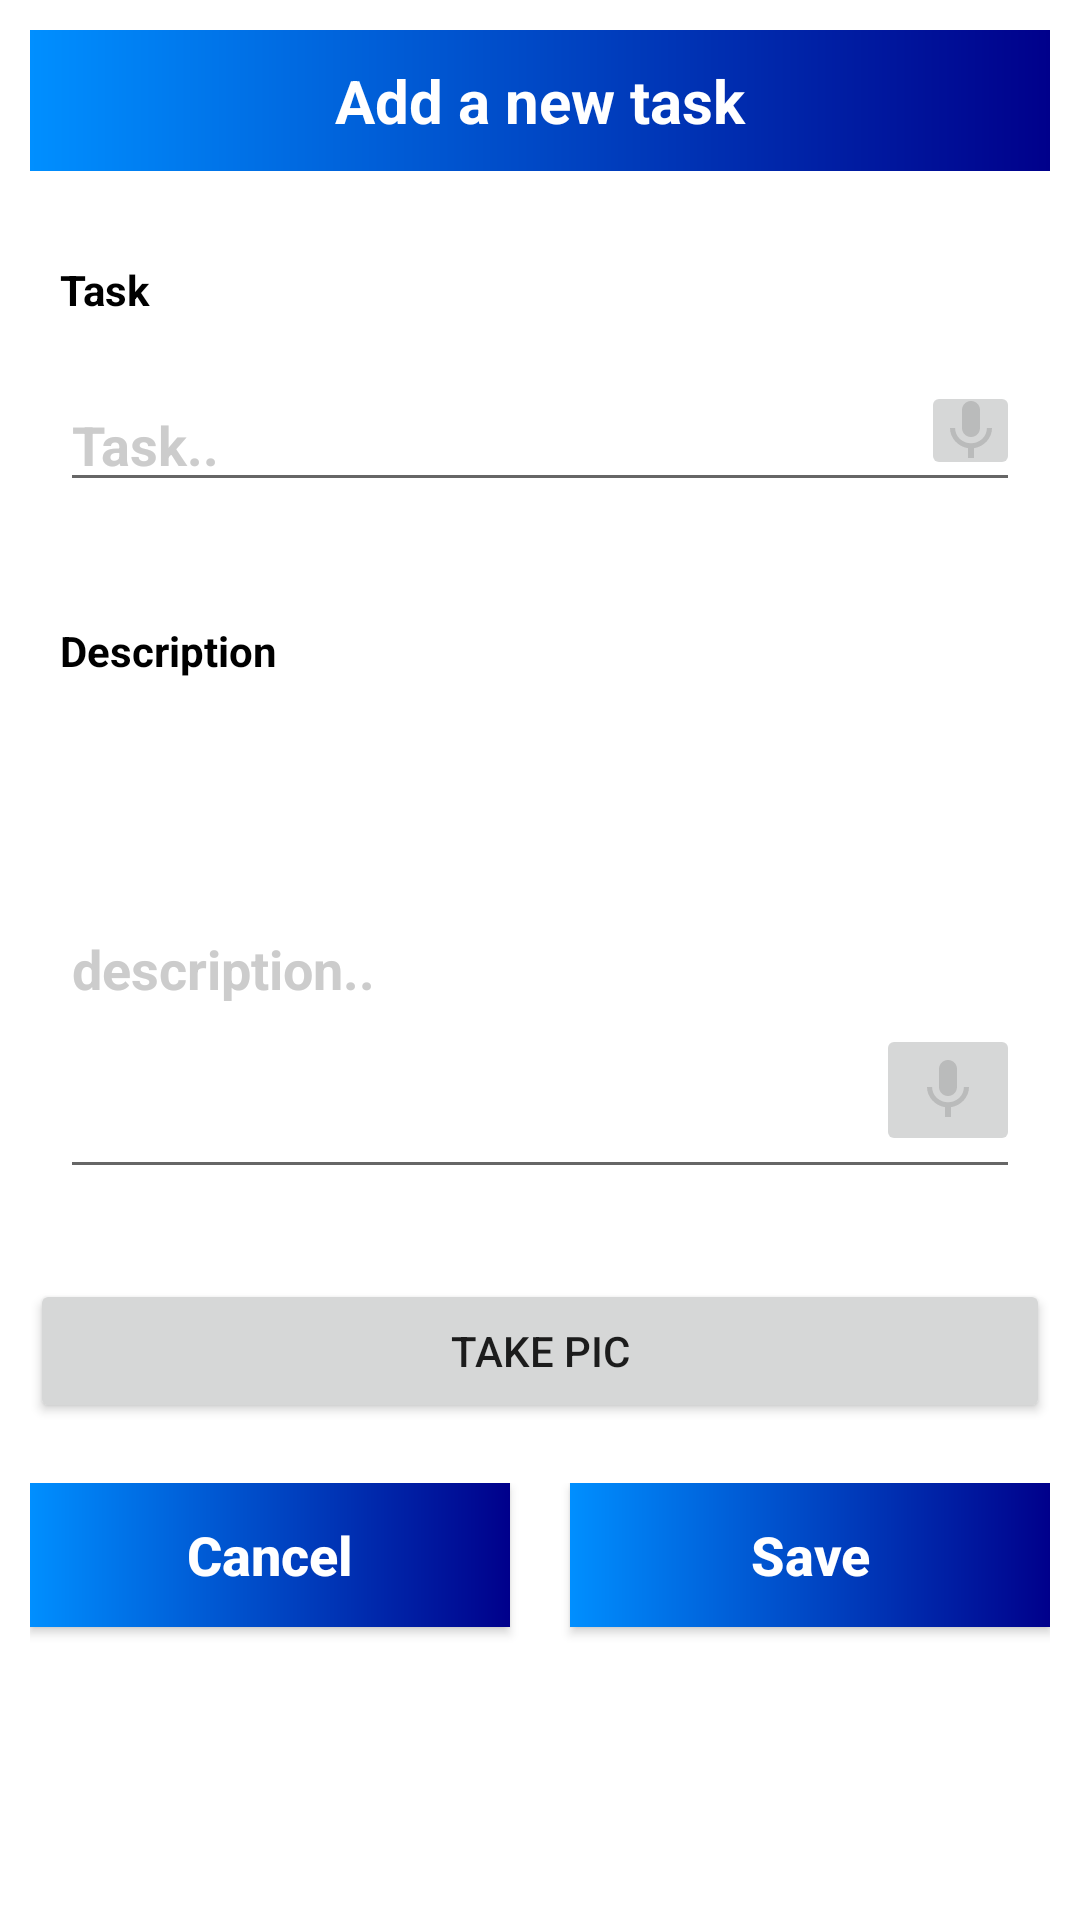

Where icons sit on this 1080px×1920px app screen, as (x1, y1, x2, y2):
mic: (933, 399, 1008, 462), (888, 1042, 1008, 1138)
